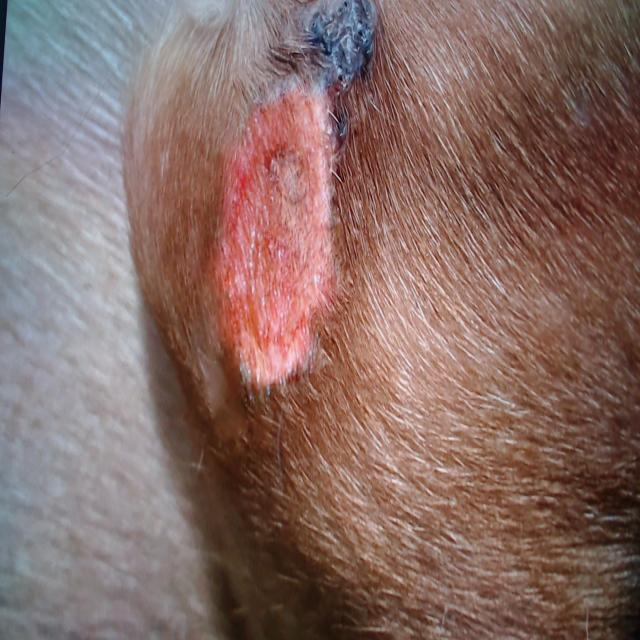ringworm: (209, 44, 349, 403)
